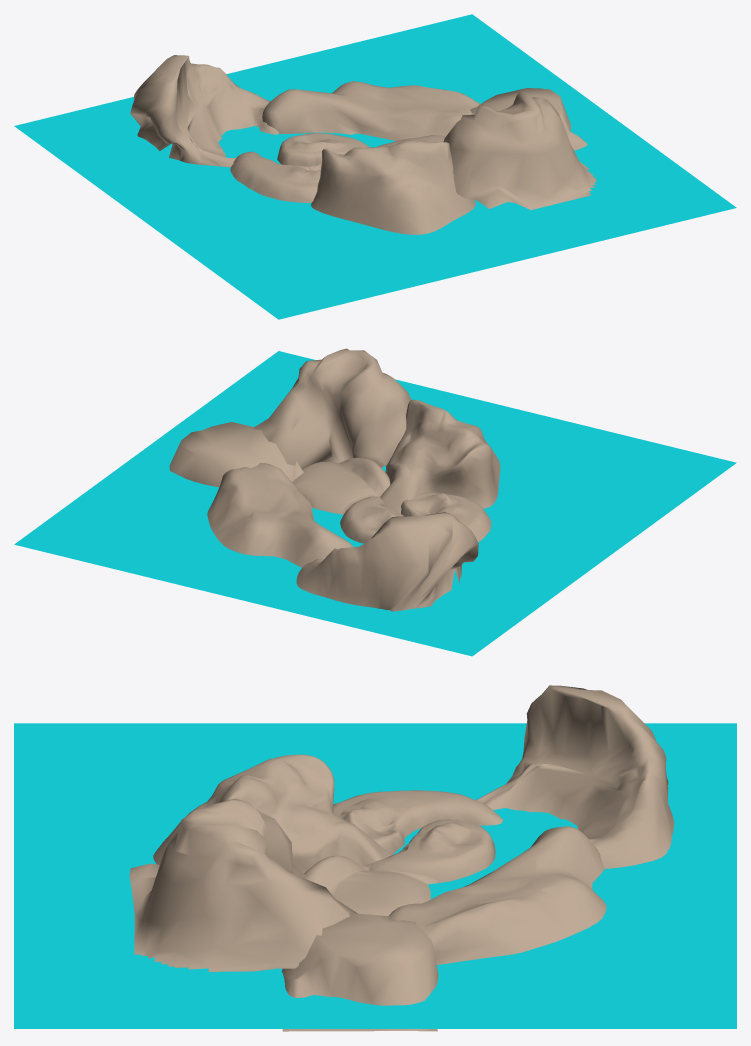
Rendered from island.fbx.
3 renders of one model, top to bottom at view 1: azimuth 30°, elevation 25°; view 2: azimuth 150°, elevation 25°; view 3: azimuth 270°, elevation 25°, orthographic. The views are drawn at different scales.
Visible parts, largest first — view 1: Plane.001, Landscape.019, Landscape.002, Landscape.006, Landscape.021, Landscape.017, Landscape.007; view 2: Plane.001, Landscape.019, Landscape.006, Landscape.021, Landscape.002, Landscape.017, Landscape.007; view 3: Plane.001, Landscape.019, Landscape.006, Landscape.021, Landscape.017, Landscape.007, Landscape.002.
Part boxes in pixels (bbox=[...]): Plane.001: bbox=[14, 14, 736, 319]; Landscape.019: bbox=[443, 92, 597, 209]; Landscape.002: bbox=[311, 140, 475, 234]; Landscape.006: bbox=[130, 55, 278, 167]; Landscape.021: bbox=[262, 81, 480, 141]; Landscape.017: bbox=[230, 133, 445, 202]; Landscape.007: bbox=[470, 88, 587, 150]; Plane.001: bbox=[14, 351, 736, 656]; Landscape.019: bbox=[252, 348, 411, 469]; Landscape.006: bbox=[296, 512, 478, 611]; Landscape.021: bbox=[207, 463, 353, 567]; Landscape.002: bbox=[380, 399, 500, 513]; Landscape.017: bbox=[292, 457, 491, 543]; Landscape.007: bbox=[169, 422, 303, 487]; Plane.001: bbox=[14, 723, 736, 1028]; Landscape.019: bbox=[129, 798, 357, 971]; Landscape.006: bbox=[476, 685, 674, 868]; Landscape.021: bbox=[388, 826, 606, 964]; Landscape.017: bbox=[304, 790, 503, 916]; Landscape.007: bbox=[281, 913, 438, 1031]; Landscape.002: bbox=[153, 754, 393, 872].
Size of the model in its own units: 4109 by 963 by 4109.
